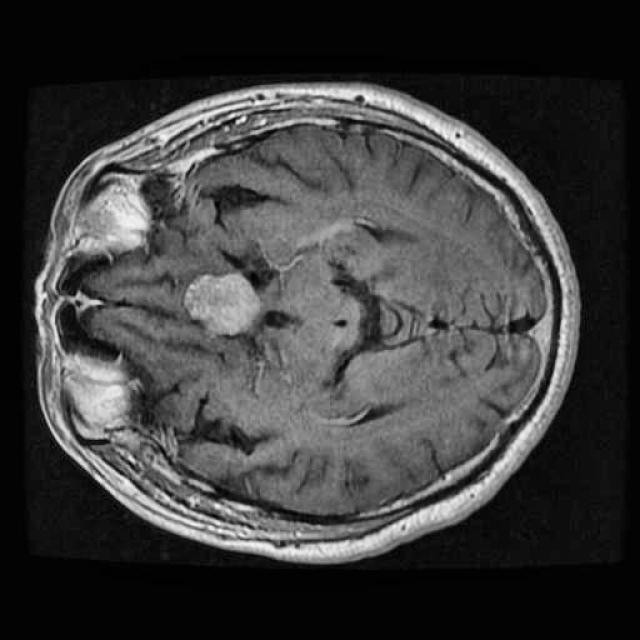Tumor: (178, 254, 271, 344)
